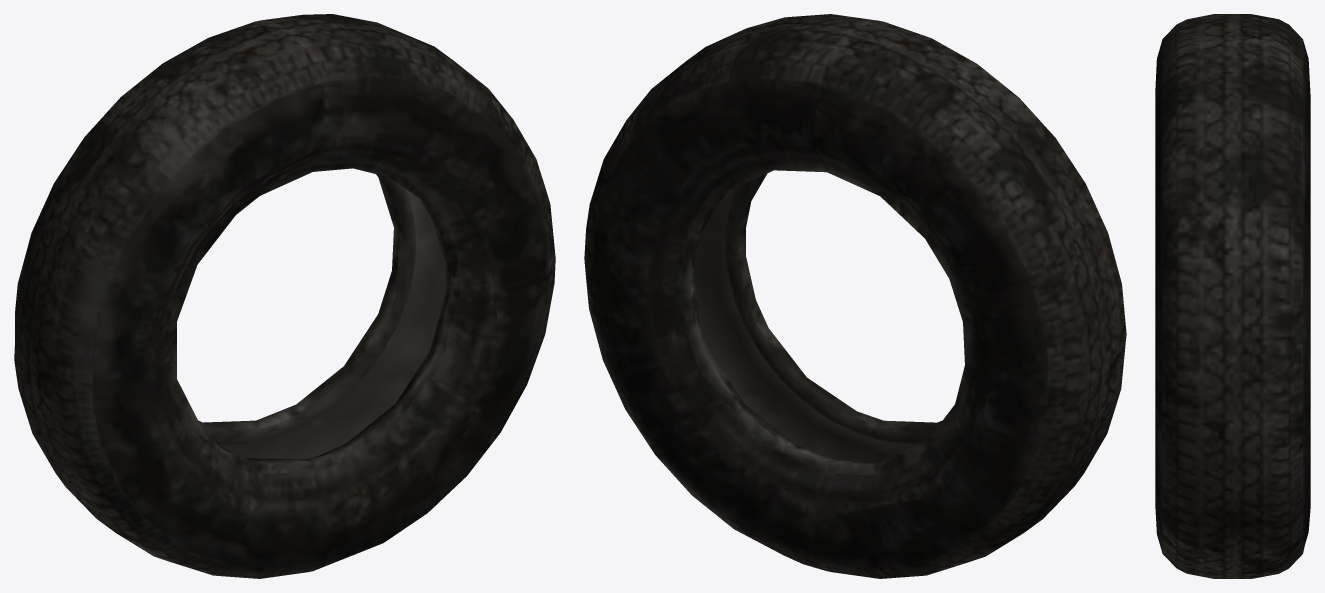
Rendered from old_tyre.glb.
3 renders of one model, left to right at view 1: azimuth 30°, elevation 25°; view 2: azimuth 150°, elevation 25°; view 3: azimuth 270°, elevation 25°, orthographic. The views are drawn at different scales.
Parts seen in each view (by area): view 1: old_tyre; view 2: old_tyre; view 3: old_tyre.
Boxes of the visible parts, bbox=[...] form: old_tyre: bbox=[14, 14, 555, 578]; old_tyre: bbox=[584, 14, 1126, 578]; old_tyre: bbox=[1155, 14, 1310, 578].
Size of the model in its own units: 0.6 by 0.6 by 0.165.
Materials: 1 (1 with a texture image).
